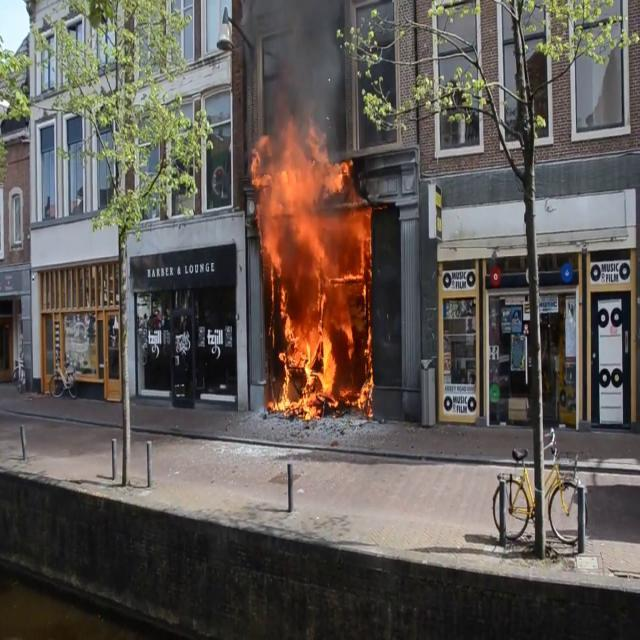Fire: (250, 122, 374, 422)
Smoke: (232, 0, 354, 150)
